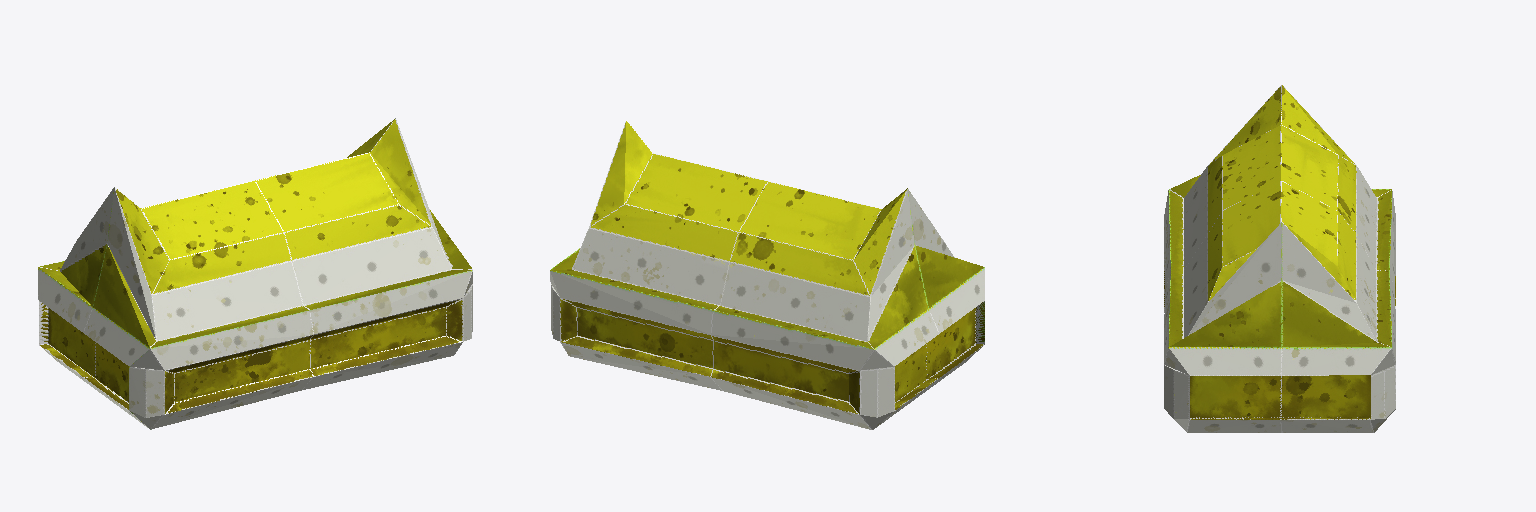
3 renders of one model, left to right at view 1: azimuth 30°, elevation 25°; view 2: azimuth 150°, elevation 25°; view 3: azimuth 270°, elevation 25°, orthographic.
Parts seen in each view (by area): view 1: Box002; view 2: Box002; view 3: Box002.
Boxes of the visible parts, x1,y1,x2,y2 form: Box002: [38, 118, 472, 429]; Box002: [550, 120, 984, 429]; Box002: [1164, 85, 1395, 432].
Bounding box in the file's own units: 53.31 × 30.43 × 31.17.
Materials: 1 (1 with a texture image).